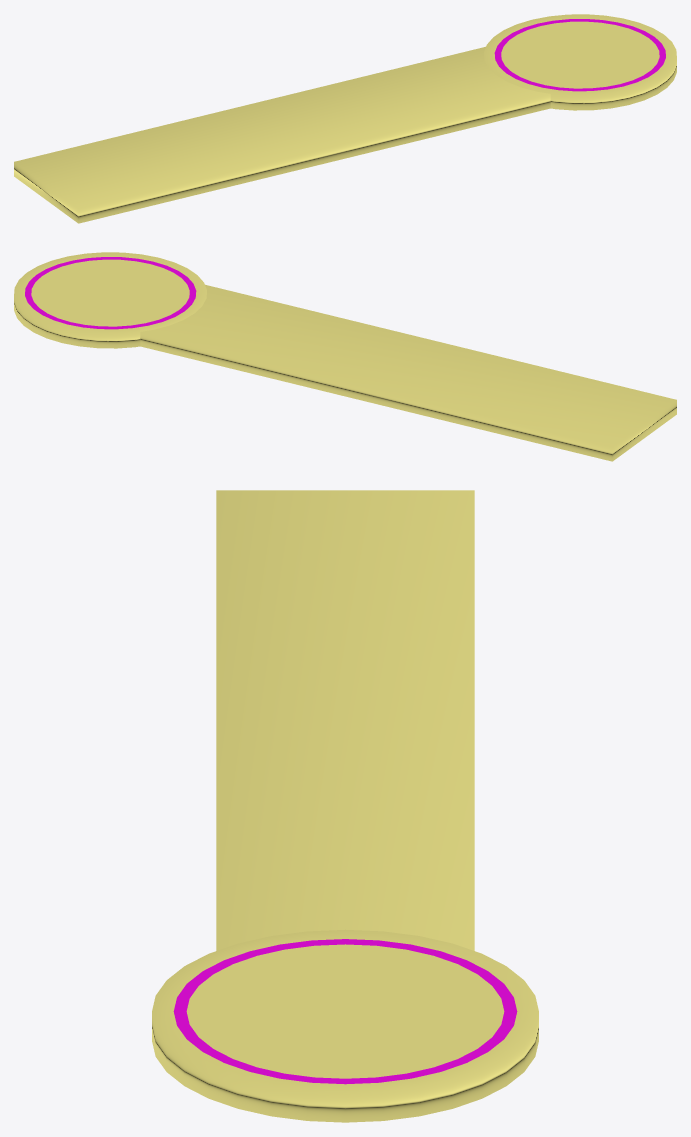
File: platform.fbx
The picture shows the model from 3 angles, top to bottom: view 1: azimuth 30°, elevation 25°; view 2: azimuth 150°, elevation 25°; view 3: azimuth 270°, elevation 25°; orthographic projection. The views are drawn at different scales.
Parts seen in each view (by area): view 1: Cube, Circle; view 2: Cube, Circle; view 3: Cube, Circle.
Boxes of the visible parts, bbox=[...] form: Cube: bbox=[14, 46, 550, 223]; Circle: bbox=[484, 14, 676, 110]; Cube: bbox=[140, 284, 676, 461]; Circle: bbox=[14, 252, 206, 348]; Cube: bbox=[216, 490, 474, 950]; Circle: bbox=[152, 929, 538, 1122].
Bounding box in the file's own units: 4424 × 100 × 1200.
